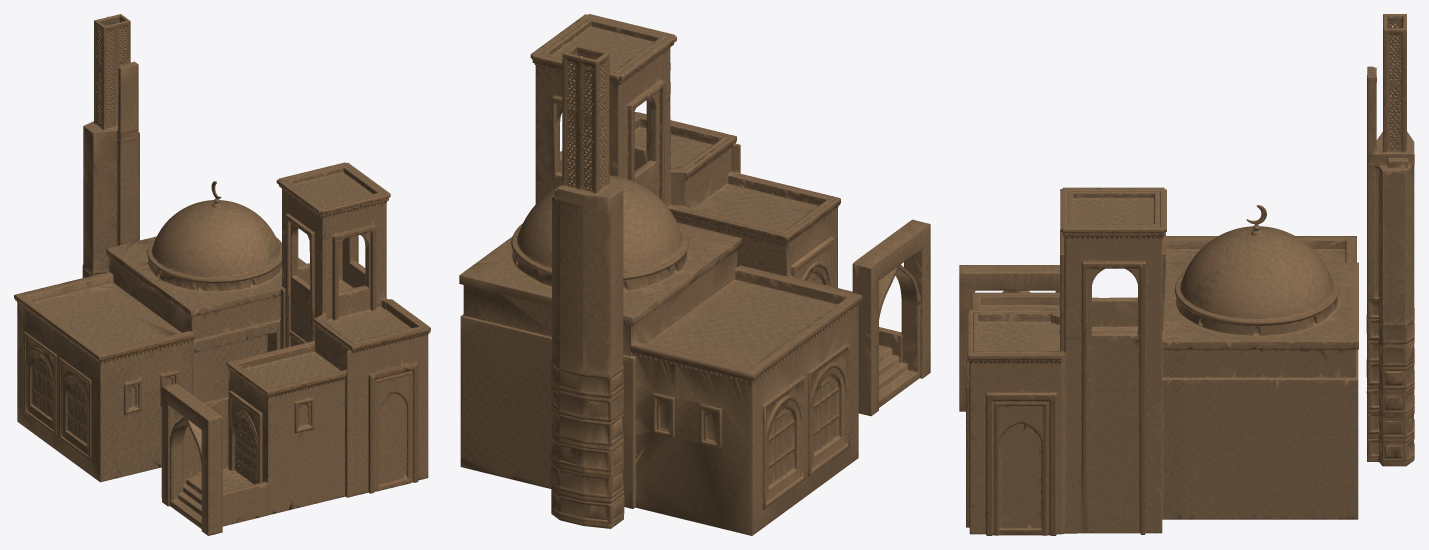
The model's file is mosque.glb.
3 views of the same model, side by side, from view 1: azimuth 30°, elevation 25°; view 2: azimuth 150°, elevation 25°; view 3: azimuth 270°, elevation 25° (orthographic). The views are drawn at different scales.
Parts seen in each view (by area): view 1: mesh_node; view 2: mesh_node; view 3: mesh_node.
Part boxes in pixels (box(x1,y1,x2,y2)): mesh_node: box(14, 14, 430, 535); mesh_node: box(459, 14, 930, 535); mesh_node: box(959, 14, 1414, 535).
Bounding box in the file's own units: 1.41 × 1.9 × 1.81.
1 material, 1 textured.
